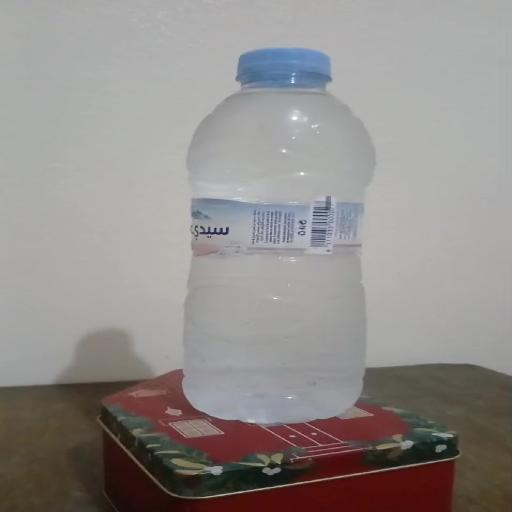bouteille conformite: (184, 38, 384, 422)
